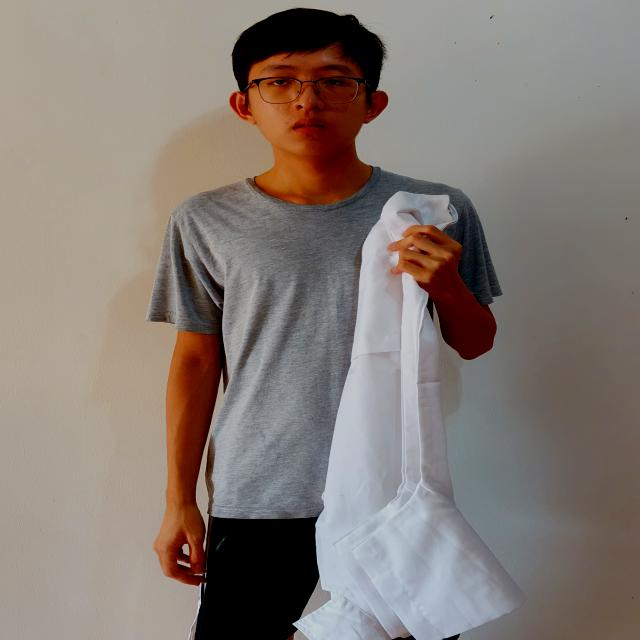person_without_labcoat: (147, 8, 525, 640)
